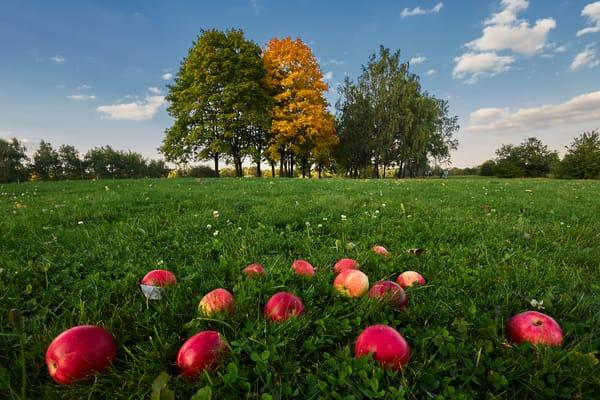Apple: (48, 329, 117, 384), (355, 326, 413, 376), (175, 327, 229, 374), (506, 309, 563, 349), (265, 291, 301, 327), (143, 267, 179, 299), (197, 289, 234, 320), (372, 278, 408, 308), (332, 271, 371, 296), (287, 257, 324, 275), (398, 267, 429, 288), (329, 257, 365, 271), (207, 322, 209, 329)
